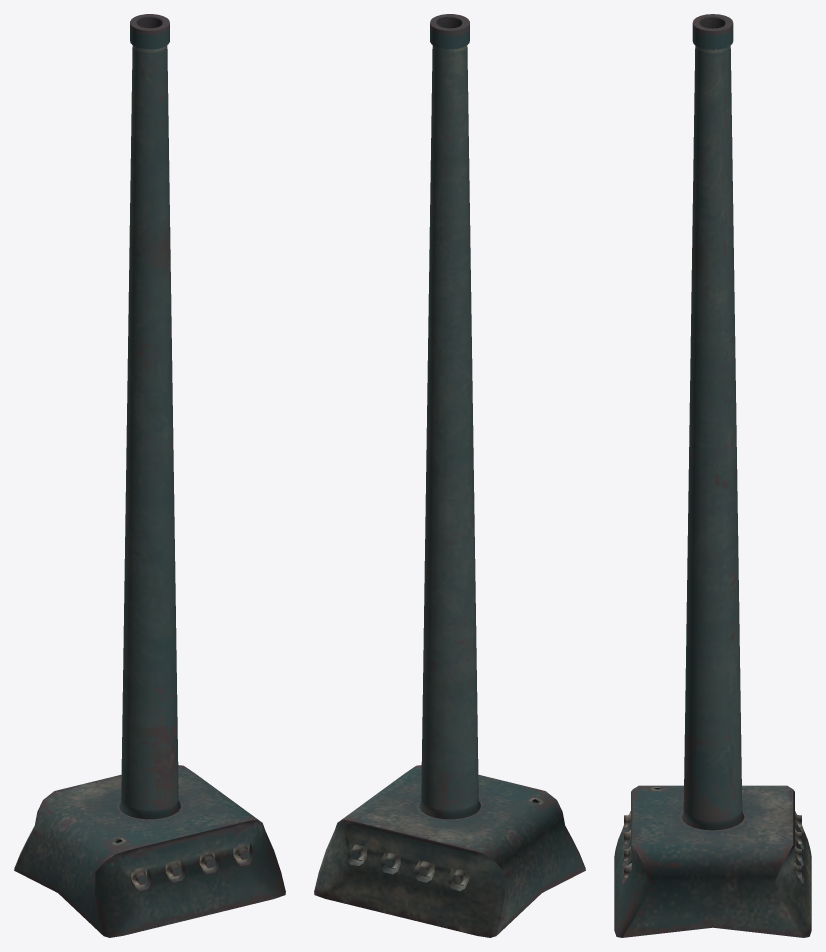
Rendered from Gun_05.glb.
3 renders of one model, left to right at view 1: azimuth 30°, elevation 25°; view 2: azimuth 150°, elevation 25°; view 3: azimuth 270°, elevation 25°, orthographic.
Visible parts, largest first — view 1: set_0_group_0; view 2: set_0_group_0; view 3: set_0_group_0.
Boxes of the visible parts, <box> form: set_0_group_0: <box>14,14,285,937</box>; set_0_group_0: <box>314,14,585,937</box>; set_0_group_0: <box>614,14,811,937</box>.
Bounding box in the file's own units: 0.6379 × 2.84 × 0.5822.
Materials: 1 (1 with a texture image).
